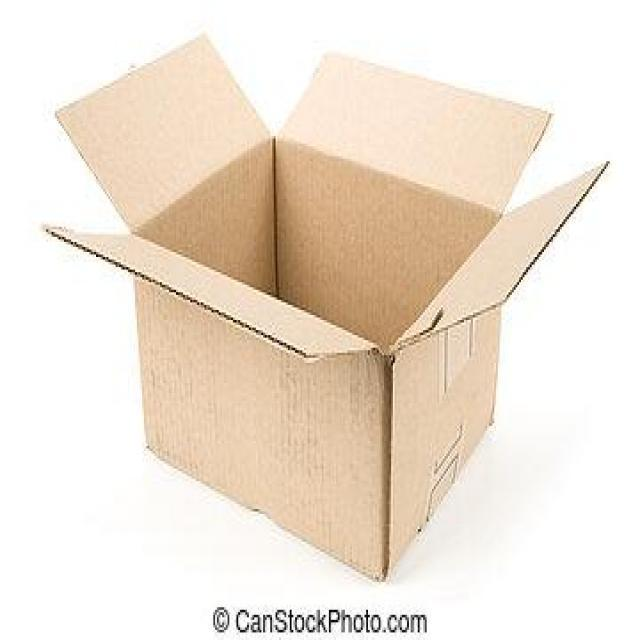box: (49, 32, 597, 582)
